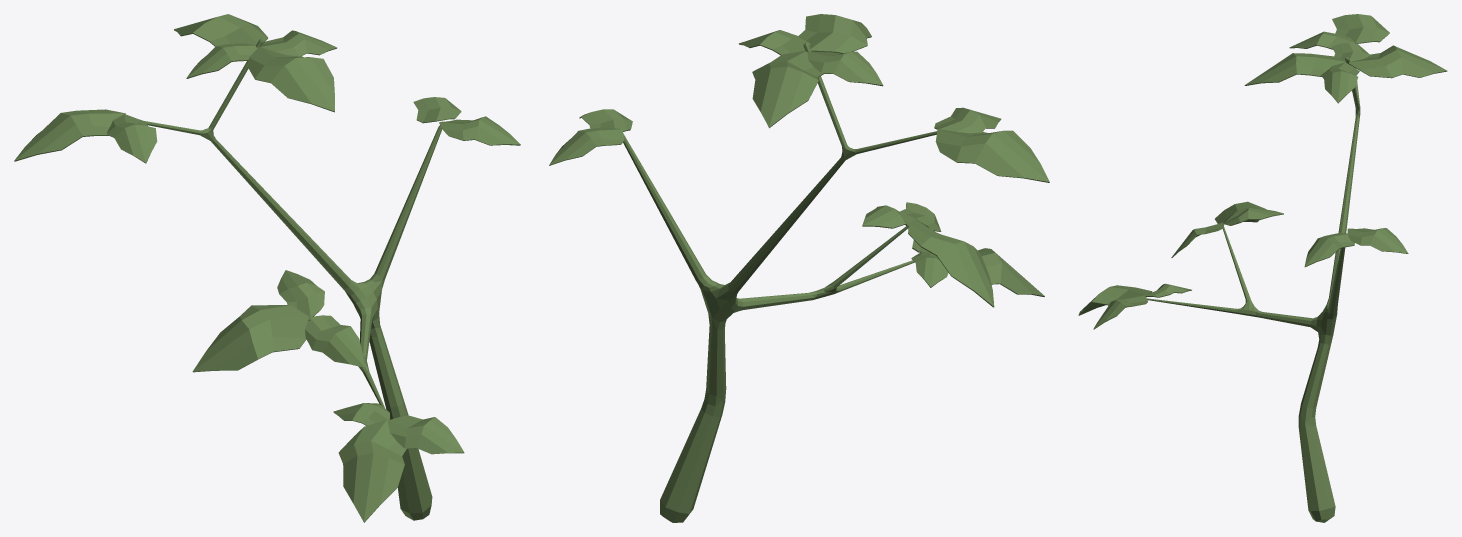
The model's file is plant02.fbx.
3 views of the same model, side by side, from view 1: azimuth 30°, elevation 25°; view 2: azimuth 150°, elevation 25°; view 3: azimuth 270°, elevation 25° (orthographic). The views are drawn at different scales.
Visible parts, largest first — view 1: Plane.038; view 2: Plane.038; view 3: Plane.038.
Part boxes in pixels (x1=…): Plane.038: x1=14, y1=14, x2=520, y2=522; Plane.038: x1=549, y1=14, x2=1049, y2=522; Plane.038: x1=1078, y1=14, x2=1447, y2=522.
Size of the model in its own units: 0.4773 by 0.487 by 0.3965.
